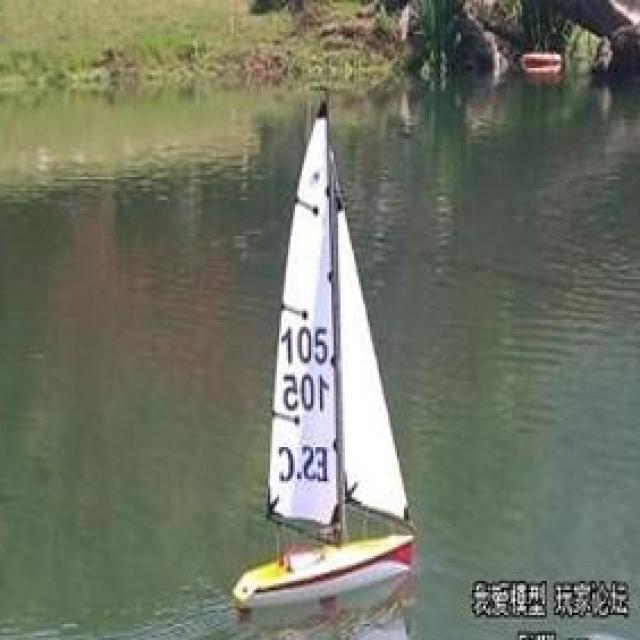sailboat: (203, 95, 441, 612)
